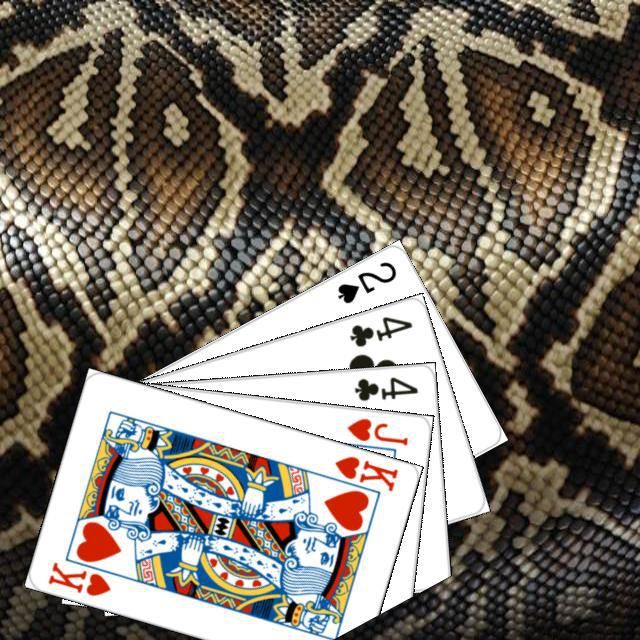2s: (332, 256, 399, 306)
4c: (344, 311, 414, 349), (349, 371, 420, 403)
Jh: (342, 413, 410, 447)
Kh: (319, 451, 400, 499), (43, 557, 113, 598)
